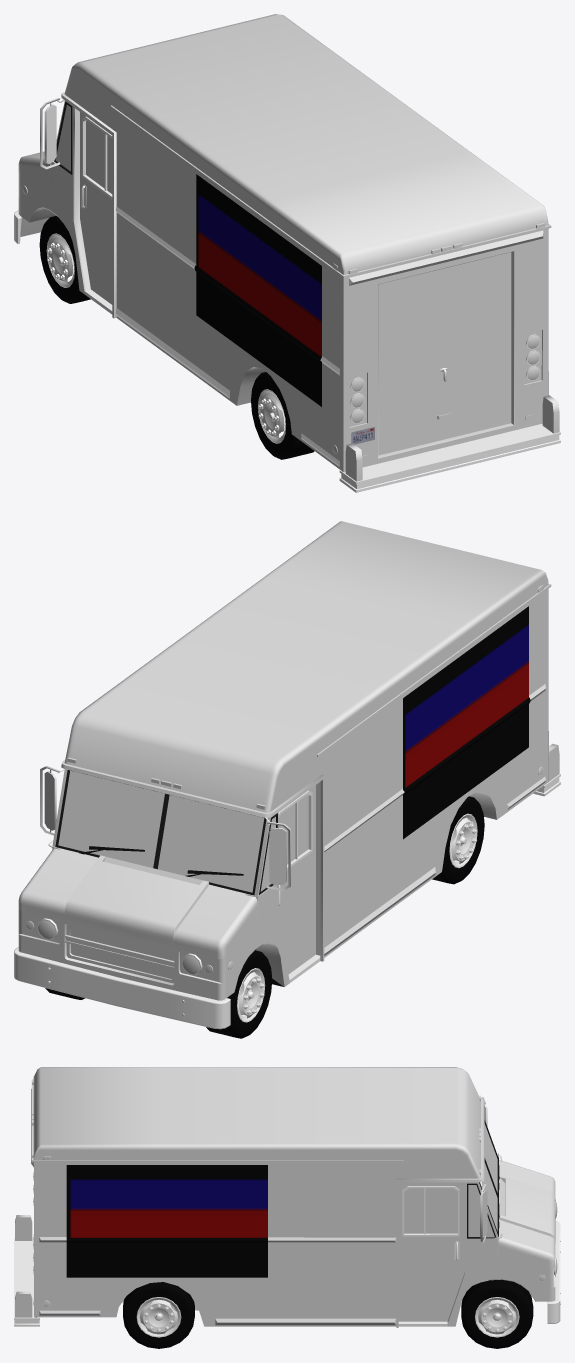
Rendered from MCLA_VA_RSTR_SHIPPINGB_07.glb.
3 renders of one model, top to bottom at view 1: azimuth 30°, elevation 25°; view 2: azimuth 150°, elevation 25°; view 3: azimuth 270°, elevation 25°, orthographic. The views are drawn at different scales.
Parts seen in each view (by area): view 1: va_rstr_shippingb_07/resources/vehicle/va_rstr_shippingb_07/ (×5); view 2: va_rstr_shippingb_07/resources/vehicle/va_rstr_shippingb_07/ (×6); view 3: va_rstr_shippingb_07/resources/vehicle/va_rstr_shippingb_07/ (×5).
Part boxes in pixels (bbox=[...]): va_rstr_shippingb_07/resources/vehicle/va_rstr_shippingb_07/ (×5): bbox=[14, 14, 560, 492]; va_rstr_shippingb_07/resources/vehicle/va_rstr_shippingb_07/ (×6): bbox=[14, 521, 560, 1038]; va_rstr_shippingb_07/resources/vehicle/va_rstr_shippingb_07/ (×5): bbox=[14, 1067, 560, 1348].
Size of the model in its own units: 2.98 by 2.95 by 7.07.
Materials: 12 (7 with a texture image).
